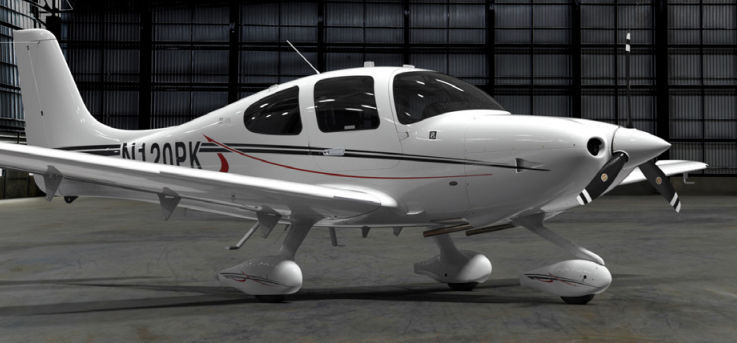Aeronef_de_loisir: (1, 22, 715, 314)
